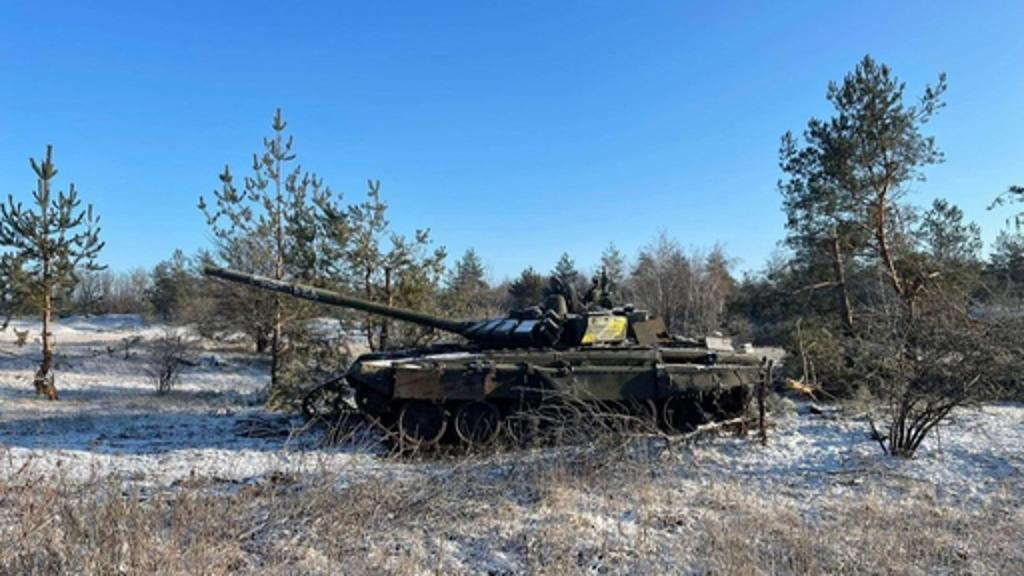TANK: (194, 244, 786, 450)
